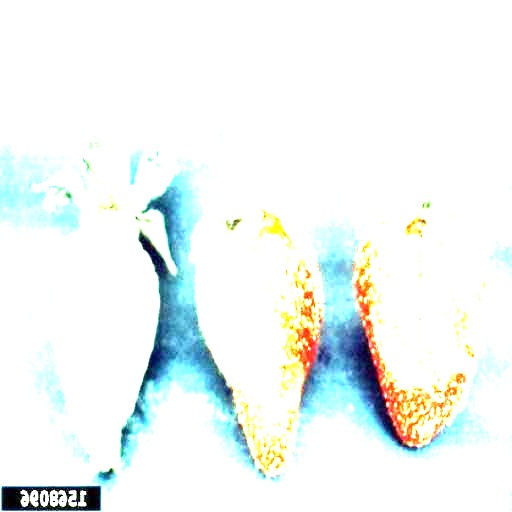Gray Mold: (31, 114, 179, 478), (353, 131, 491, 448), (190, 168, 321, 479)
